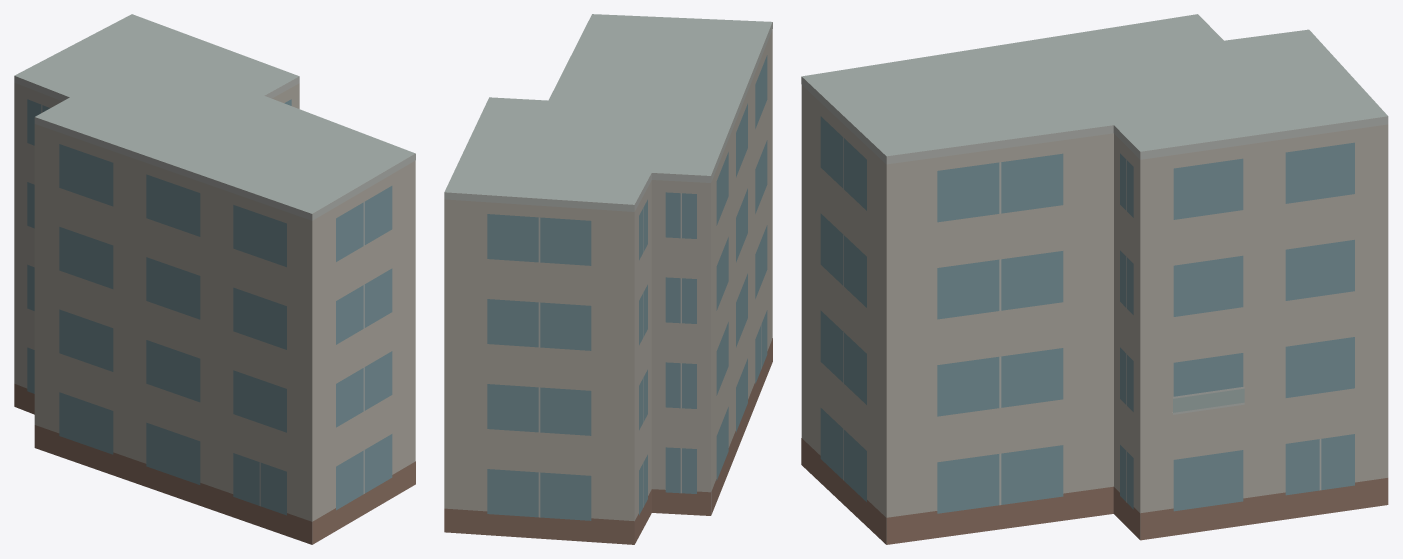
The model's file is survey-upis-32978837.glb.
3 views of the same model, side by side, from view 1: azimuth 30°, elevation 25°; view 2: azimuth 150°, elevation 25°; view 3: azimuth 270°, elevation 25° (orthographic). The views are drawn at different scales.
Parts seen in each view (by area): view 1: survey-upis-32978837.tmp; view 2: survey-upis-32978837.tmp; view 3: survey-upis-32978837.tmp.
Part boxes in pixels (x1,y1,x2,y2): survey-upis-32978837.tmp: (14, 14, 415, 544); survey-upis-32978837.tmp: (444, 14, 772, 544); survey-upis-32978837.tmp: (801, 14, 1388, 544).
Size of the model in its own units: 9.2 by 11.7 by 16.03.
